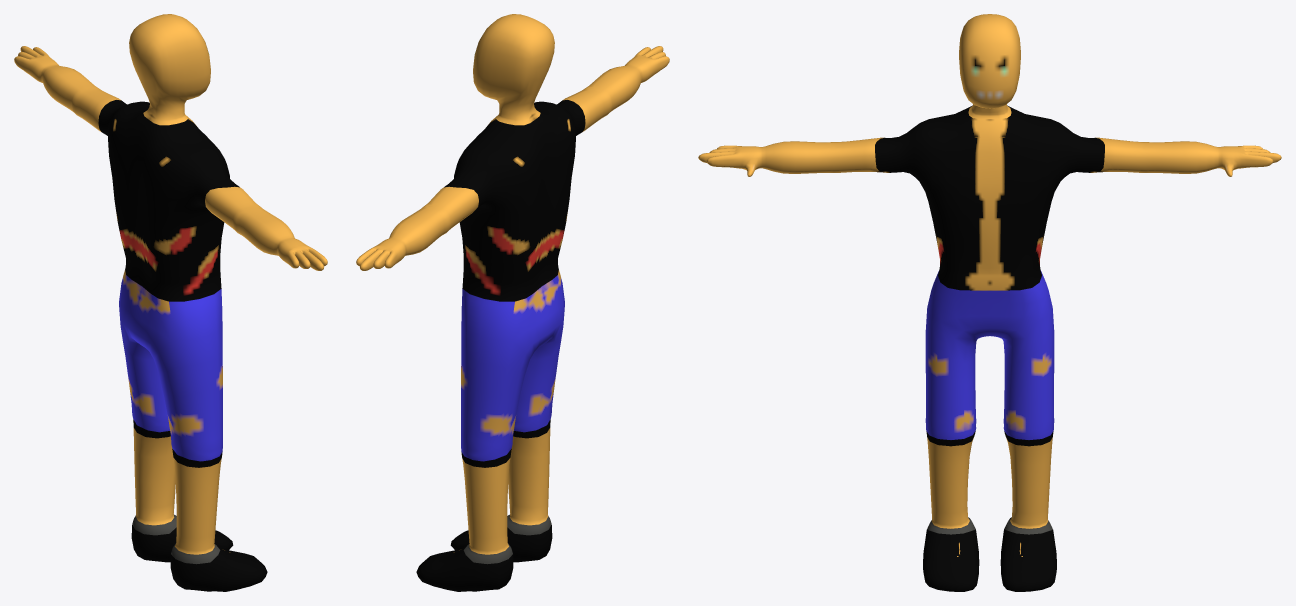
Rendered from zombie3T.fbx.
The picture shows the model from 3 angles, left to right: view 1: azimuth 30°, elevation 25°; view 2: azimuth 150°, elevation 25°; view 3: azimuth 270°, elevation 25°; orthographic projection. The views are drawn at different scales.
Visible parts, largest first — view 1: Cube.001; view 2: Cube.001; view 3: Cube.001.
Boxes of the visible parts, bbox=[...] form: Cube.001: bbox=[14, 14, 327, 591]; Cube.001: bbox=[356, 14, 669, 591]; Cube.001: bbox=[698, 14, 1281, 591].
Bounding box in the file's own units: 450 × 2074 × 2119.
1 material, 1 textured.
